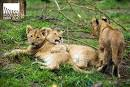lion: (83, 19, 129, 79), (17, 27, 70, 75), (41, 27, 97, 70)
